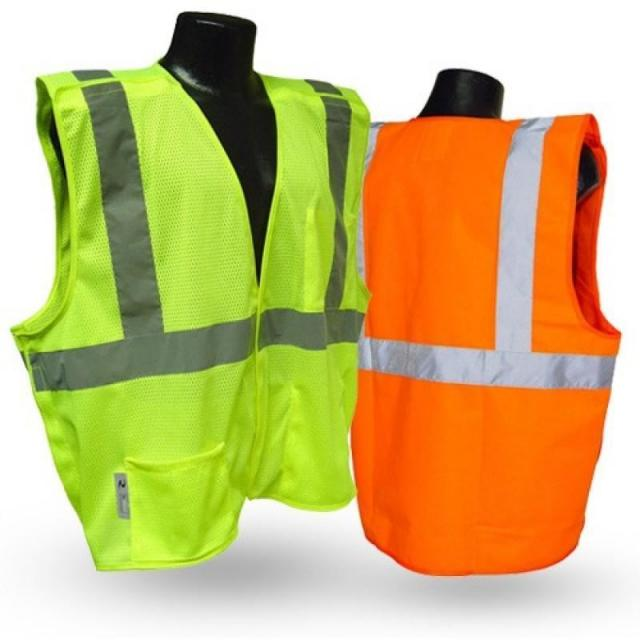vest: (9, 52, 370, 574), (350, 111, 620, 585)
